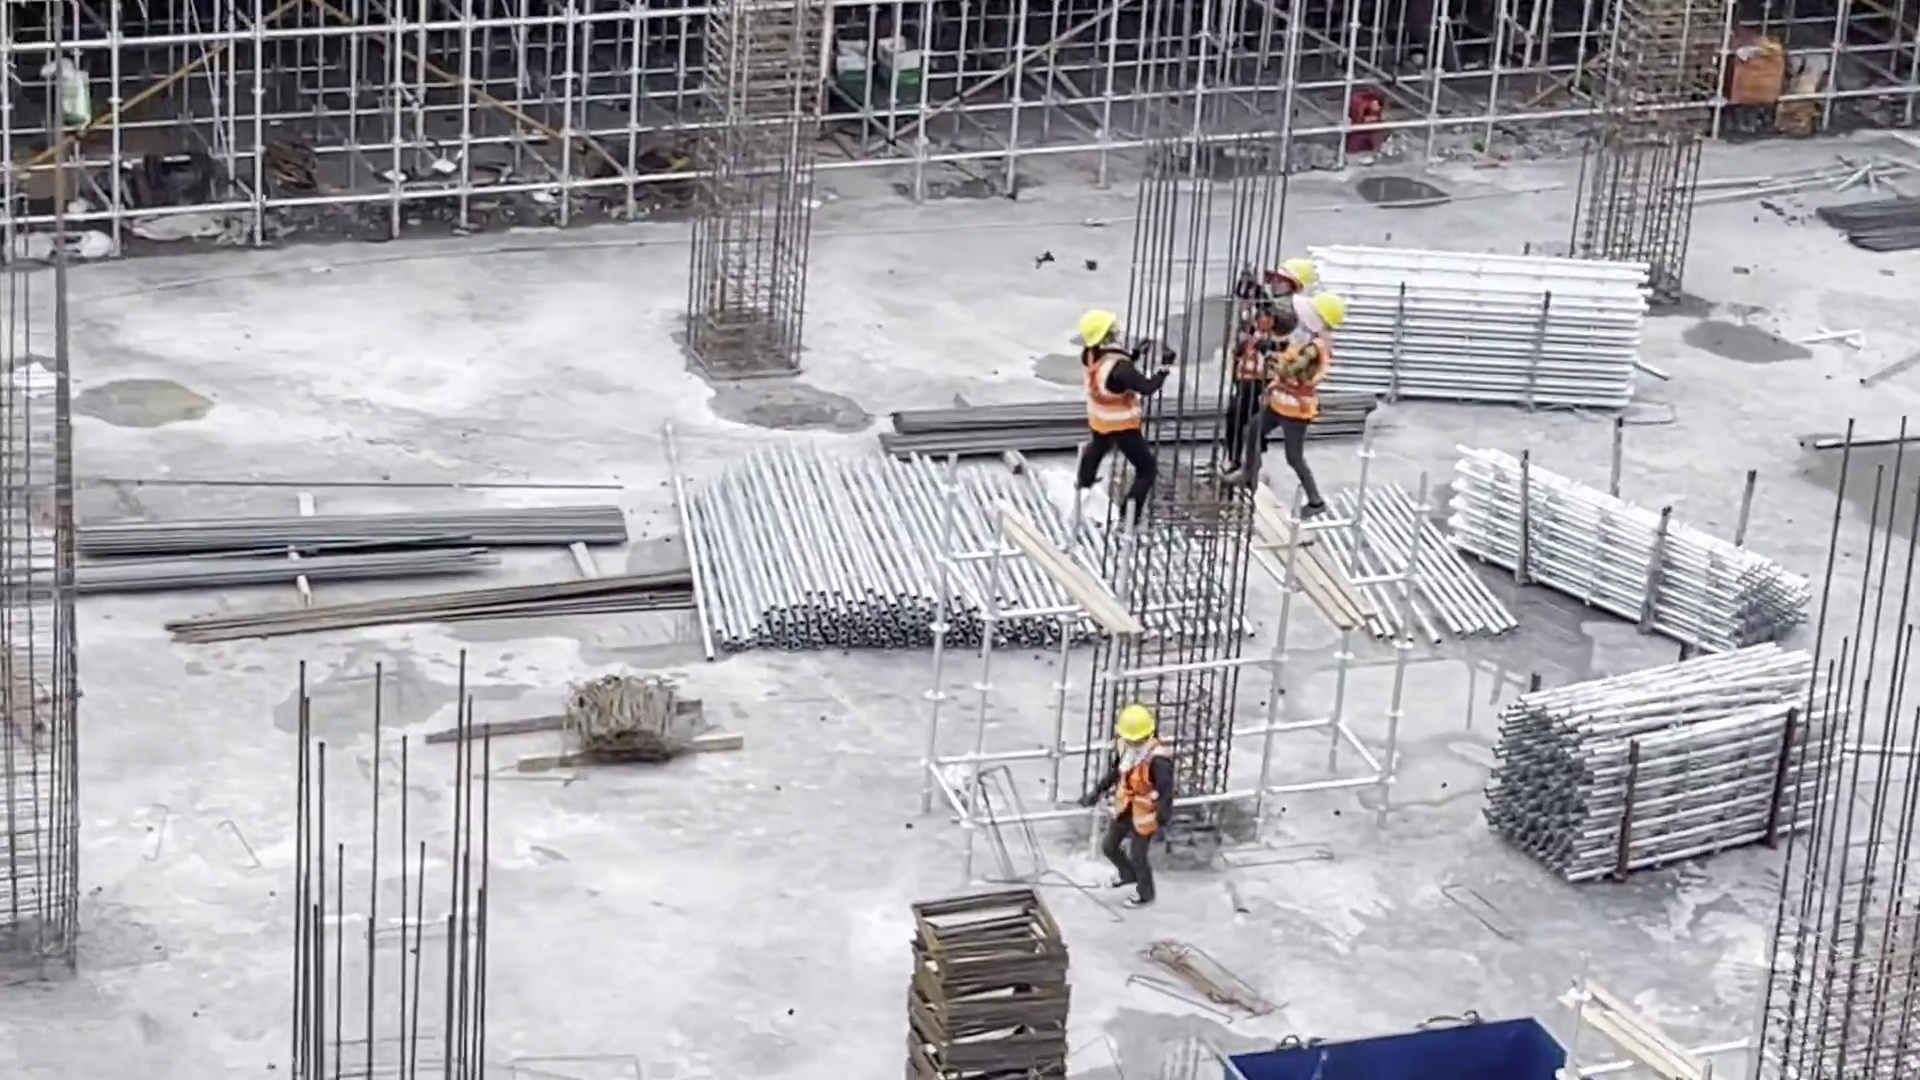helmet: (1277, 254, 1321, 290), (1110, 708, 1158, 737), (1306, 289, 1340, 328), (1077, 312, 1119, 343)
hopper: (1199, 1012, 1572, 1080)
person: (1084, 695, 1173, 898), (1074, 312, 1154, 516), (1223, 253, 1296, 461), (1274, 290, 1337, 492)
rebar: (1, 468, 638, 593), (175, 564, 719, 652), (874, 376, 1386, 452), (1804, 191, 1920, 259)
scaffold: (671, 428, 1112, 654), (1459, 642, 1858, 871), (1428, 439, 1792, 653), (1315, 241, 1673, 434)
vest: (1114, 738, 1167, 835), (1084, 353, 1144, 430), (1275, 339, 1329, 423)
